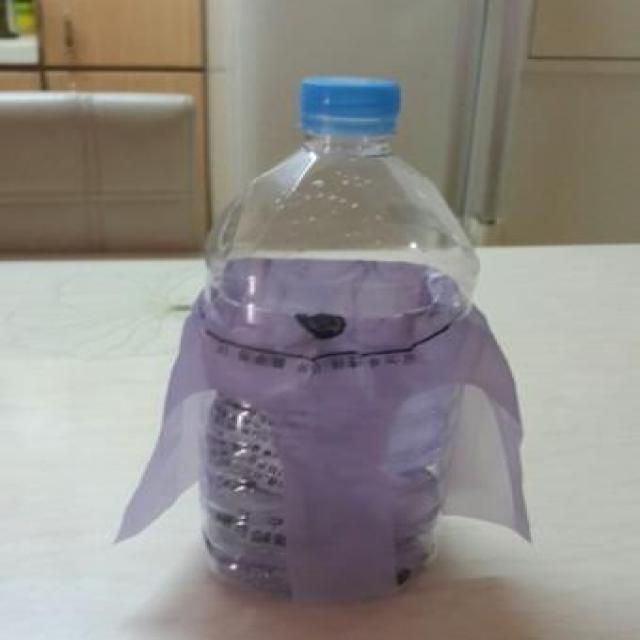bottle: (200, 58, 523, 622)
